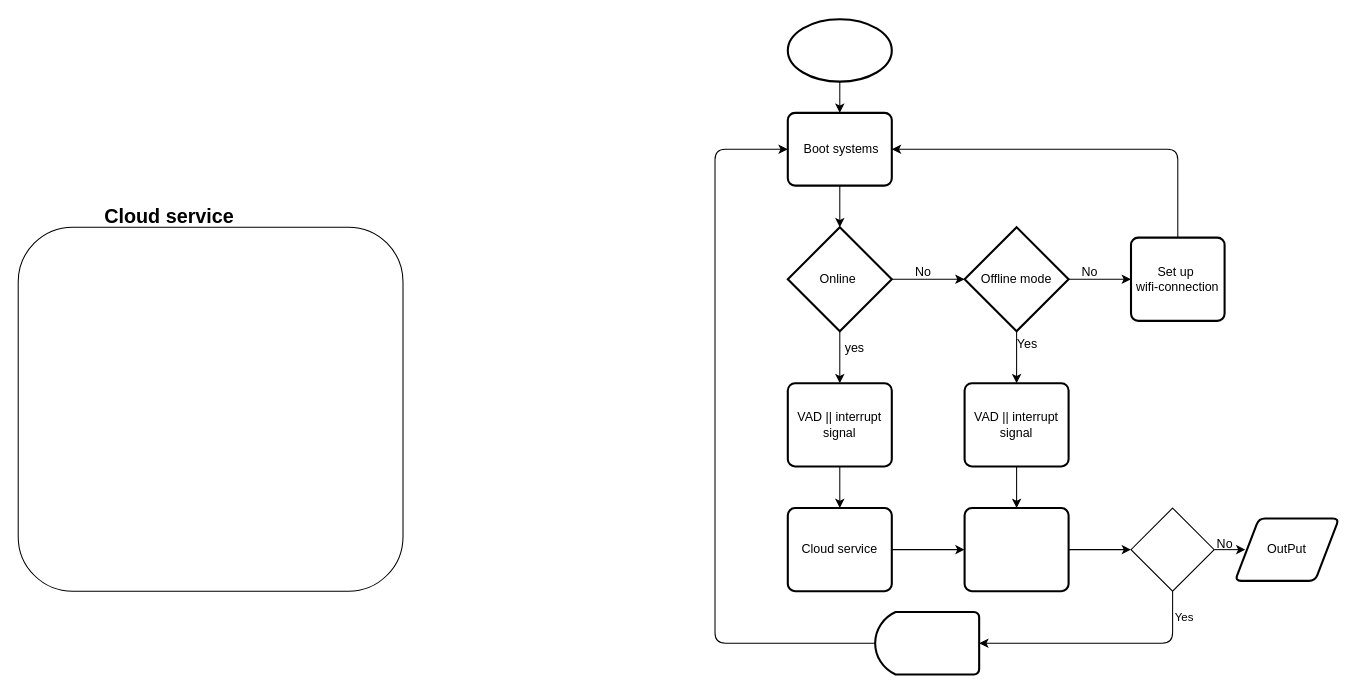
This 1358x693 diagram has some shape labels left out. Each missing label, with the centre of its shape:
Edge Device process: (1016,549)
OTA: (1172,549)
Start: (839,50)
Wait for flash programing: (927,642)
